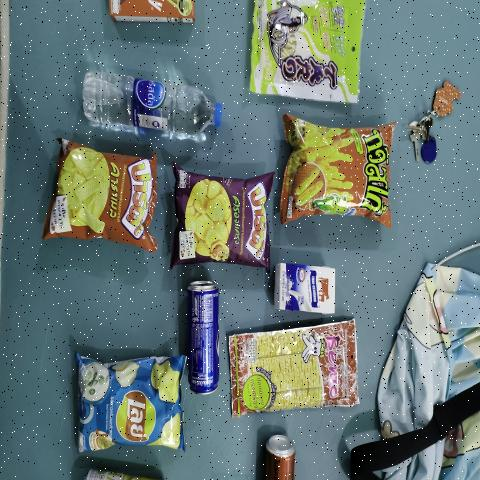bento_red: (231, 319, 355, 417)
crystal: (76, 66, 226, 145)
lay_blue: (76, 359, 182, 446)
party_purple: (176, 178, 268, 263)
party_red: (58, 156, 154, 245)
pepsi_blue: (192, 283, 215, 395)
taro_yellow: (252, 0, 359, 102)
thai_denmark: (276, 263, 335, 313)
twisco: (287, 120, 391, 219)
